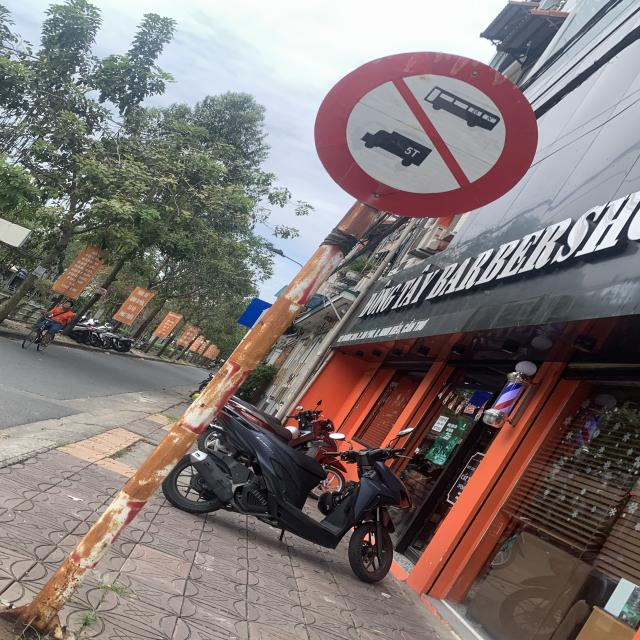Cam_XeTai_XeKhach: (314, 51, 538, 219)
